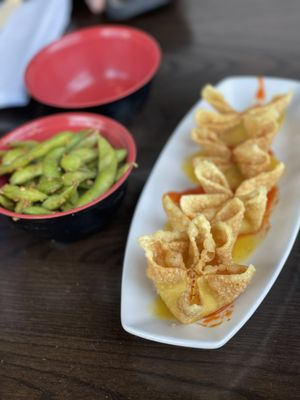sushi: (0, 111, 138, 241), (25, 23, 164, 115)
